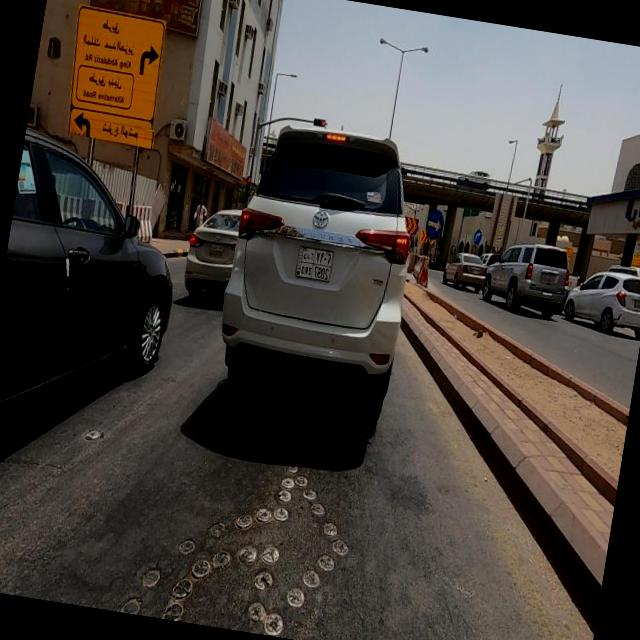debris: (169, 104, 287, 202), (401, 186, 472, 258), (460, 308, 501, 358)
